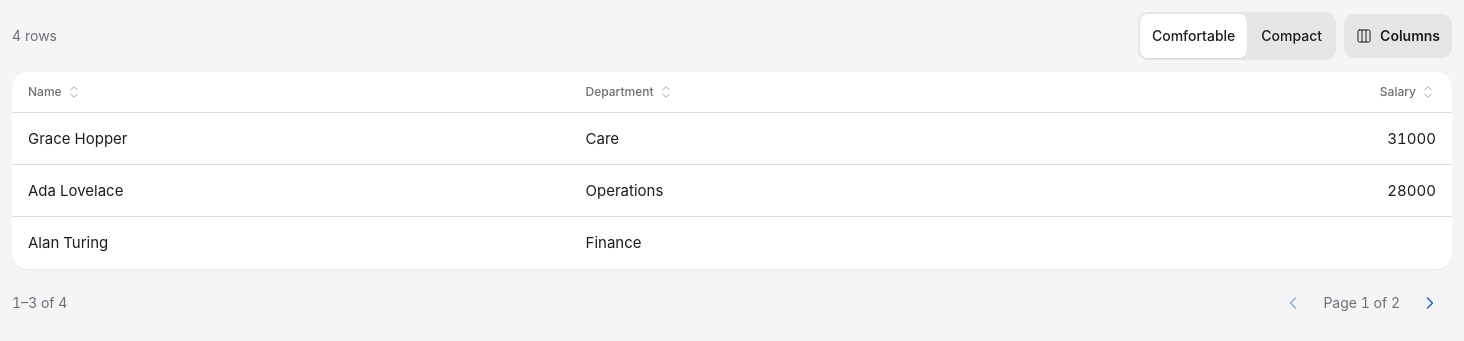
it: DataTable states and paging › pages, with the range and page count
Expected: the text "1–3 of 4" is shown, [12,292,67,312]
Expected: the button named "Previous page" is disabled, [1271,280,1315,324]
Step 1. Click the button named "Next page" → (1430, 302), box [1408,280,1452,324]
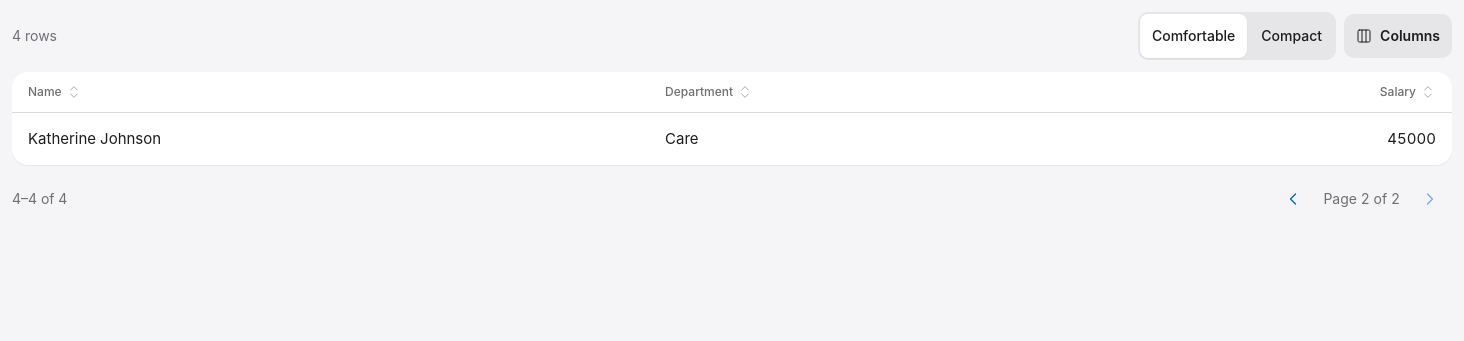
Expected: the text "4–4 of 4" is shown, [12,188,67,208]
Expected: the button named "Next page" is disabled, [1408,176,1452,220]
